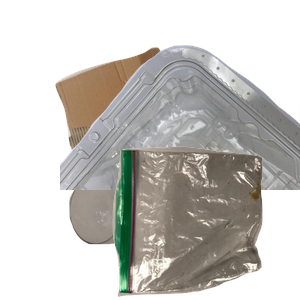cardboard: (53, 45, 221, 204)
glass: (67, 172, 229, 300)
plastic: (60, 43, 300, 223)
trash: (110, 144, 300, 300)
